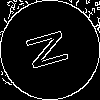N: (25, 25, 79, 72)
